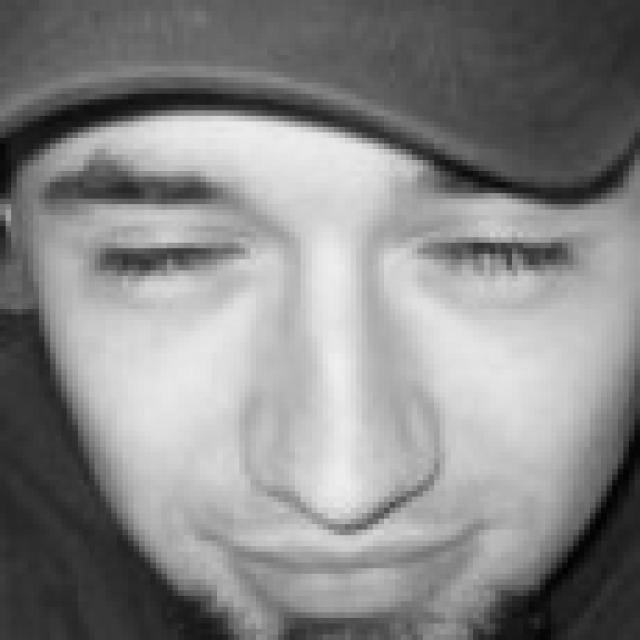real: (2, 7, 587, 619), (78, 167, 588, 315)
